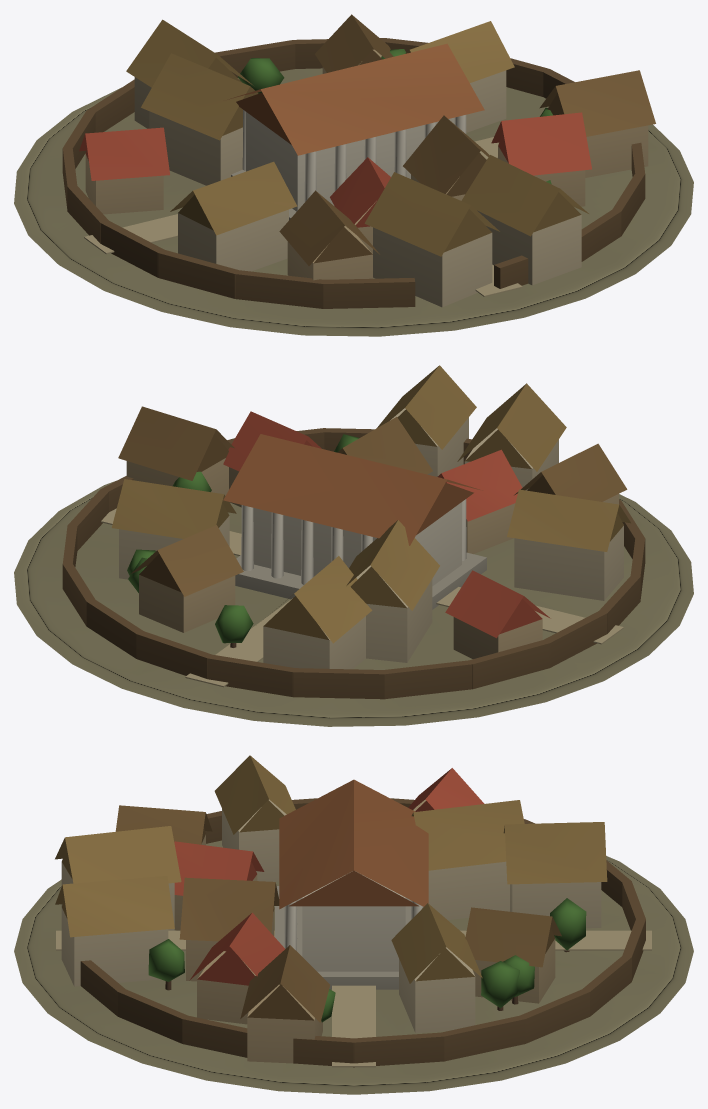
File: settlement_1_1.glb
3 renders of one model, top to bottom at view 1: azimuth 30°, elevation 25°; view 2: azimuth 150°, elevation 25°; view 3: azimuth 270°, elevation 25°, orthographic.
Parts seen in each view (by area): view 1: part_0; view 2: part_0; view 3: part_0.
Part boxes in pixels (<box>): part_0: <box>14,14,693,336</box>; part_0: <box>14,365,693,726</box>; part_0: <box>14,755,693,1094</box>.
Bounding box in the file's own units: 30.8 × 6.31 × 30.8.
